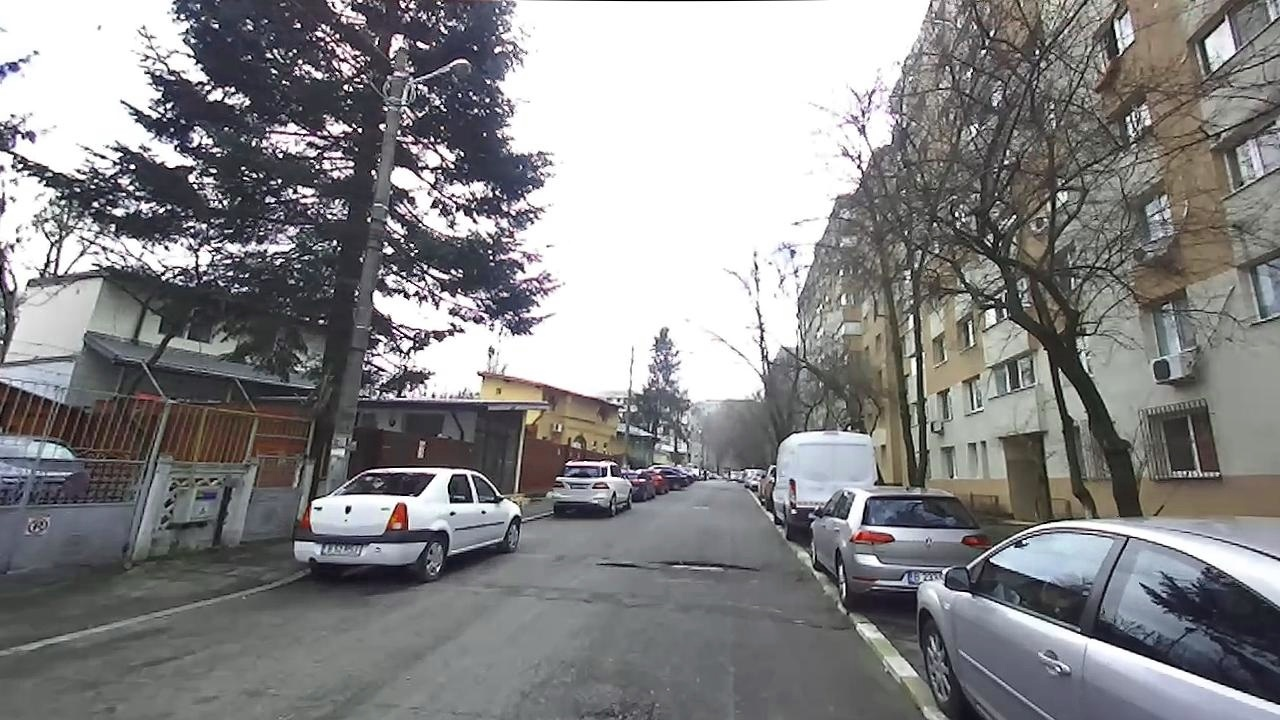pothole: (666, 559, 755, 572), (595, 707, 654, 718), (596, 562, 643, 568)
